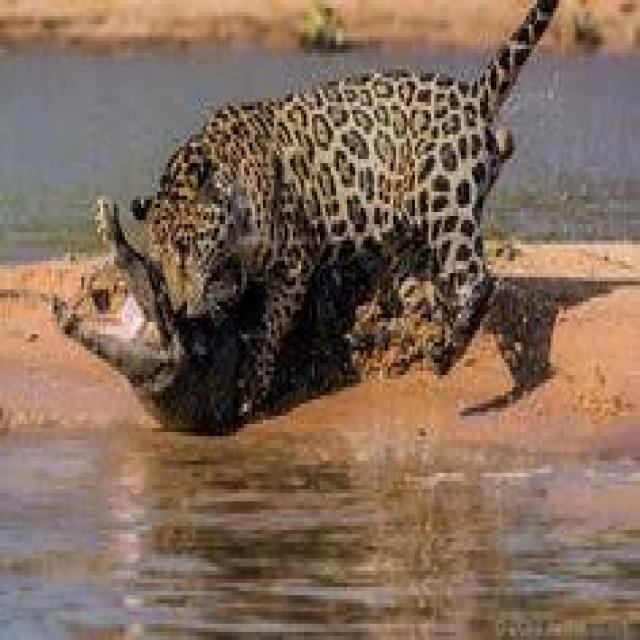Jaguar: (147, 49, 488, 395)
